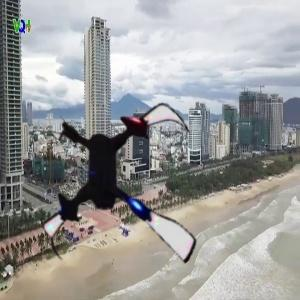drone: (26, 90, 223, 287)
